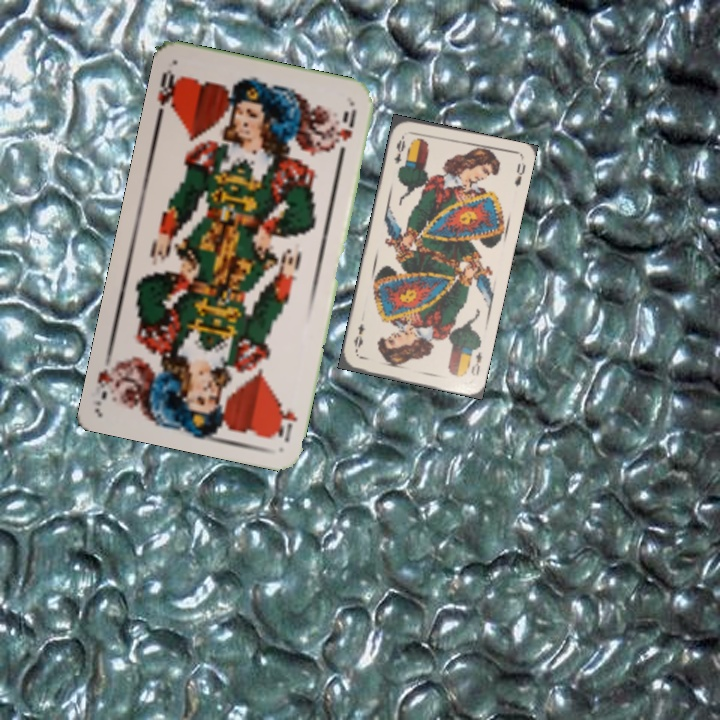EO: (390, 131, 408, 167), (467, 347, 484, 378)
HO: (152, 65, 184, 123), (269, 399, 300, 445)
